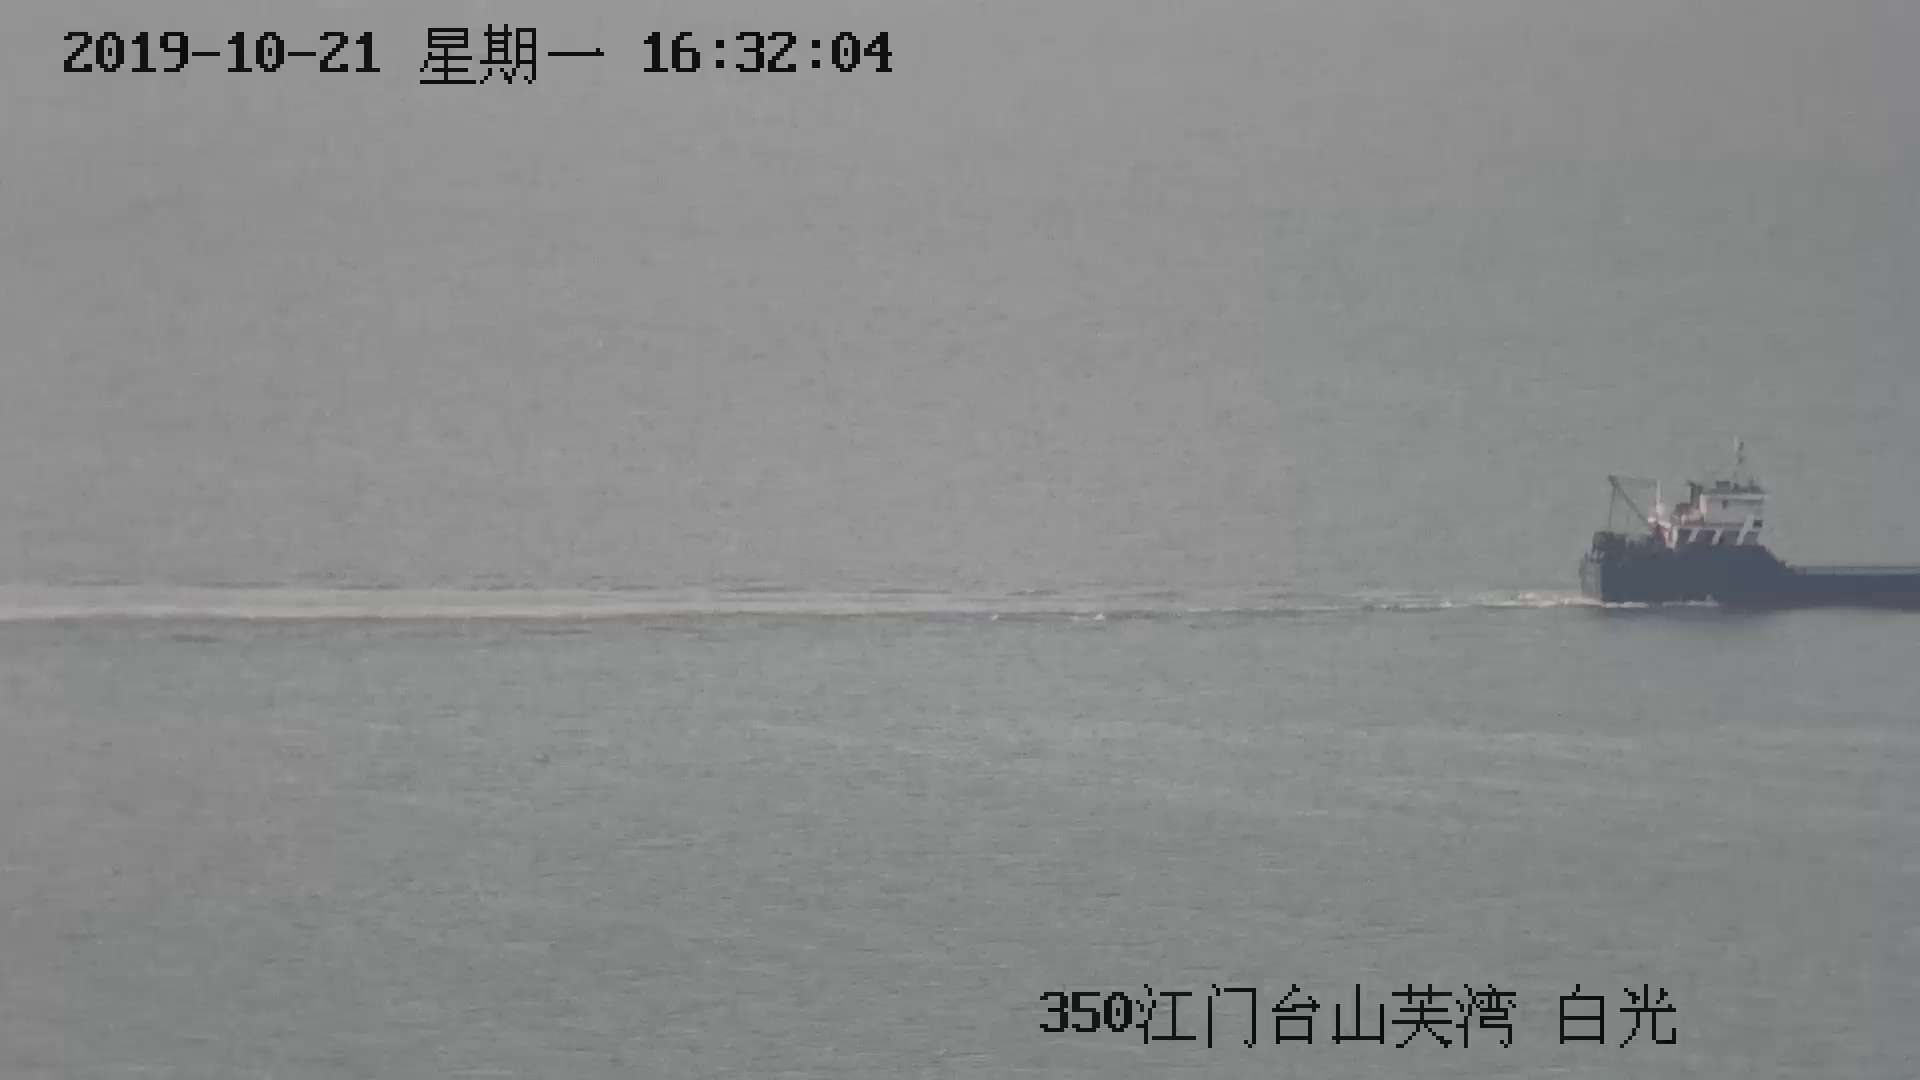ship: (1577, 431, 1920, 607)
